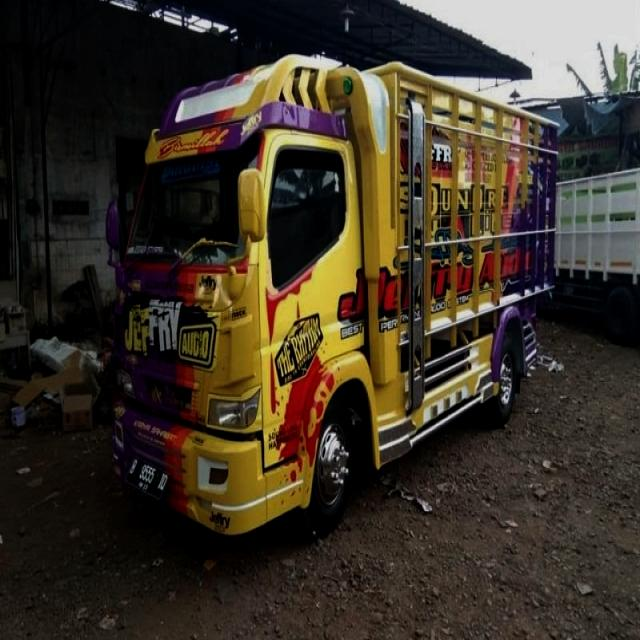truck: (107, 58, 558, 541)
